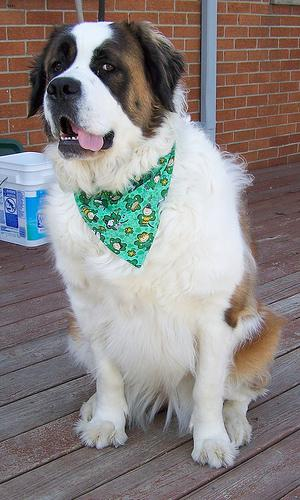dog-saint_bernard: (26, 19, 183, 159)
